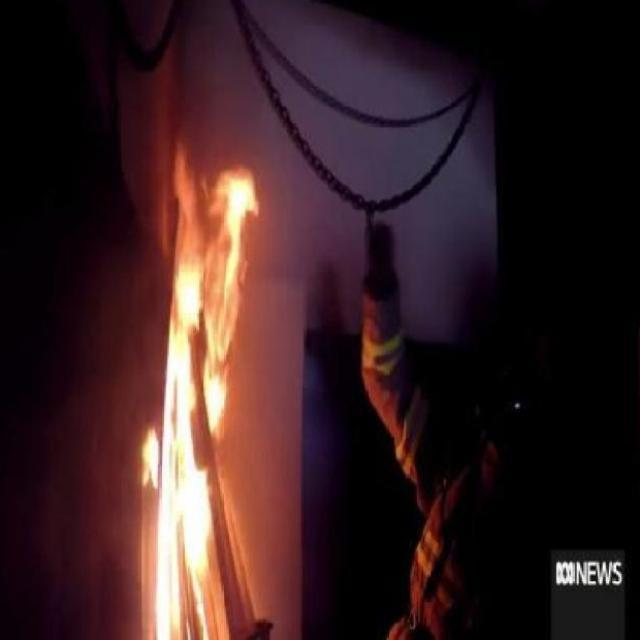smoke: (137, 150, 262, 640)
